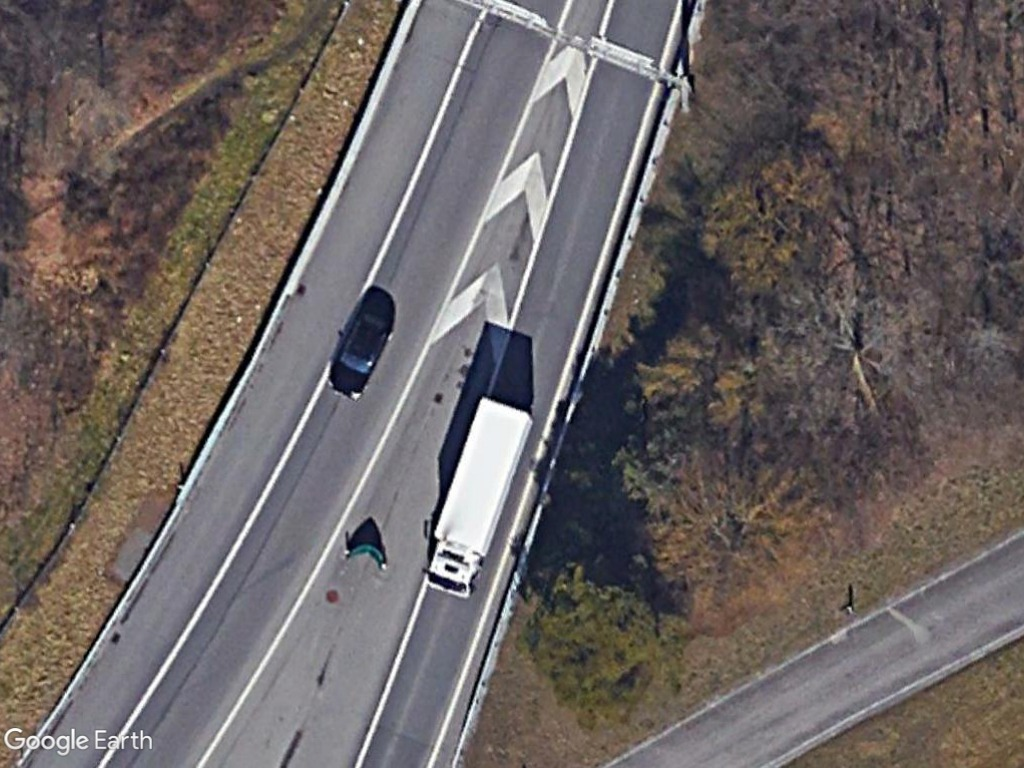car: (326, 306, 392, 399)
truck: (422, 391, 537, 598)
